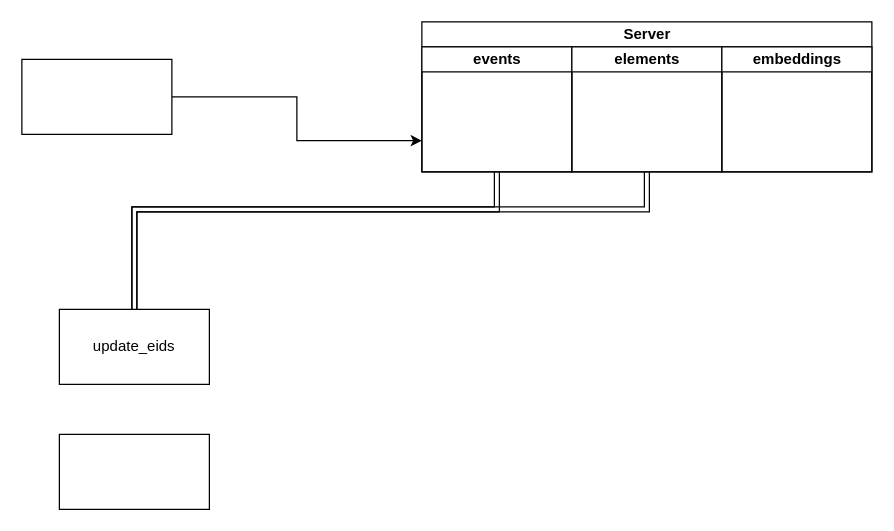
This 894x531 diagram has some shape labels left out. Each missing label, with the box of its shape:
make data: (21, 58, 172, 134)
update_embeddings: (58, 433, 209, 509)
